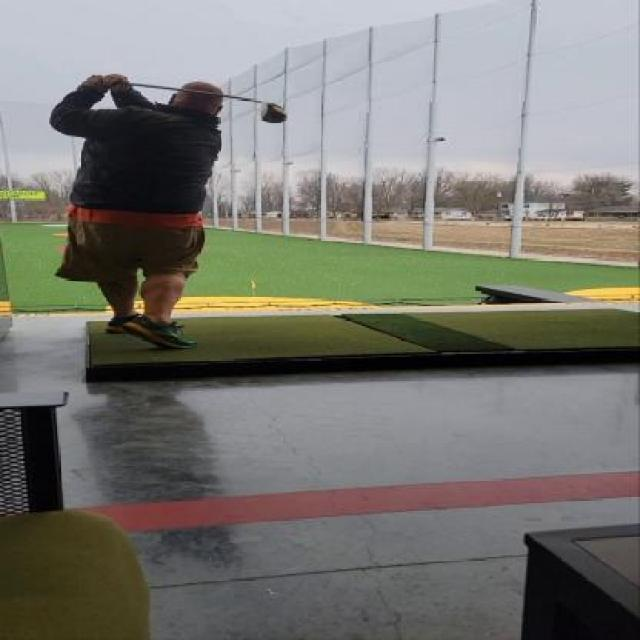club head: (254, 95, 291, 128)
